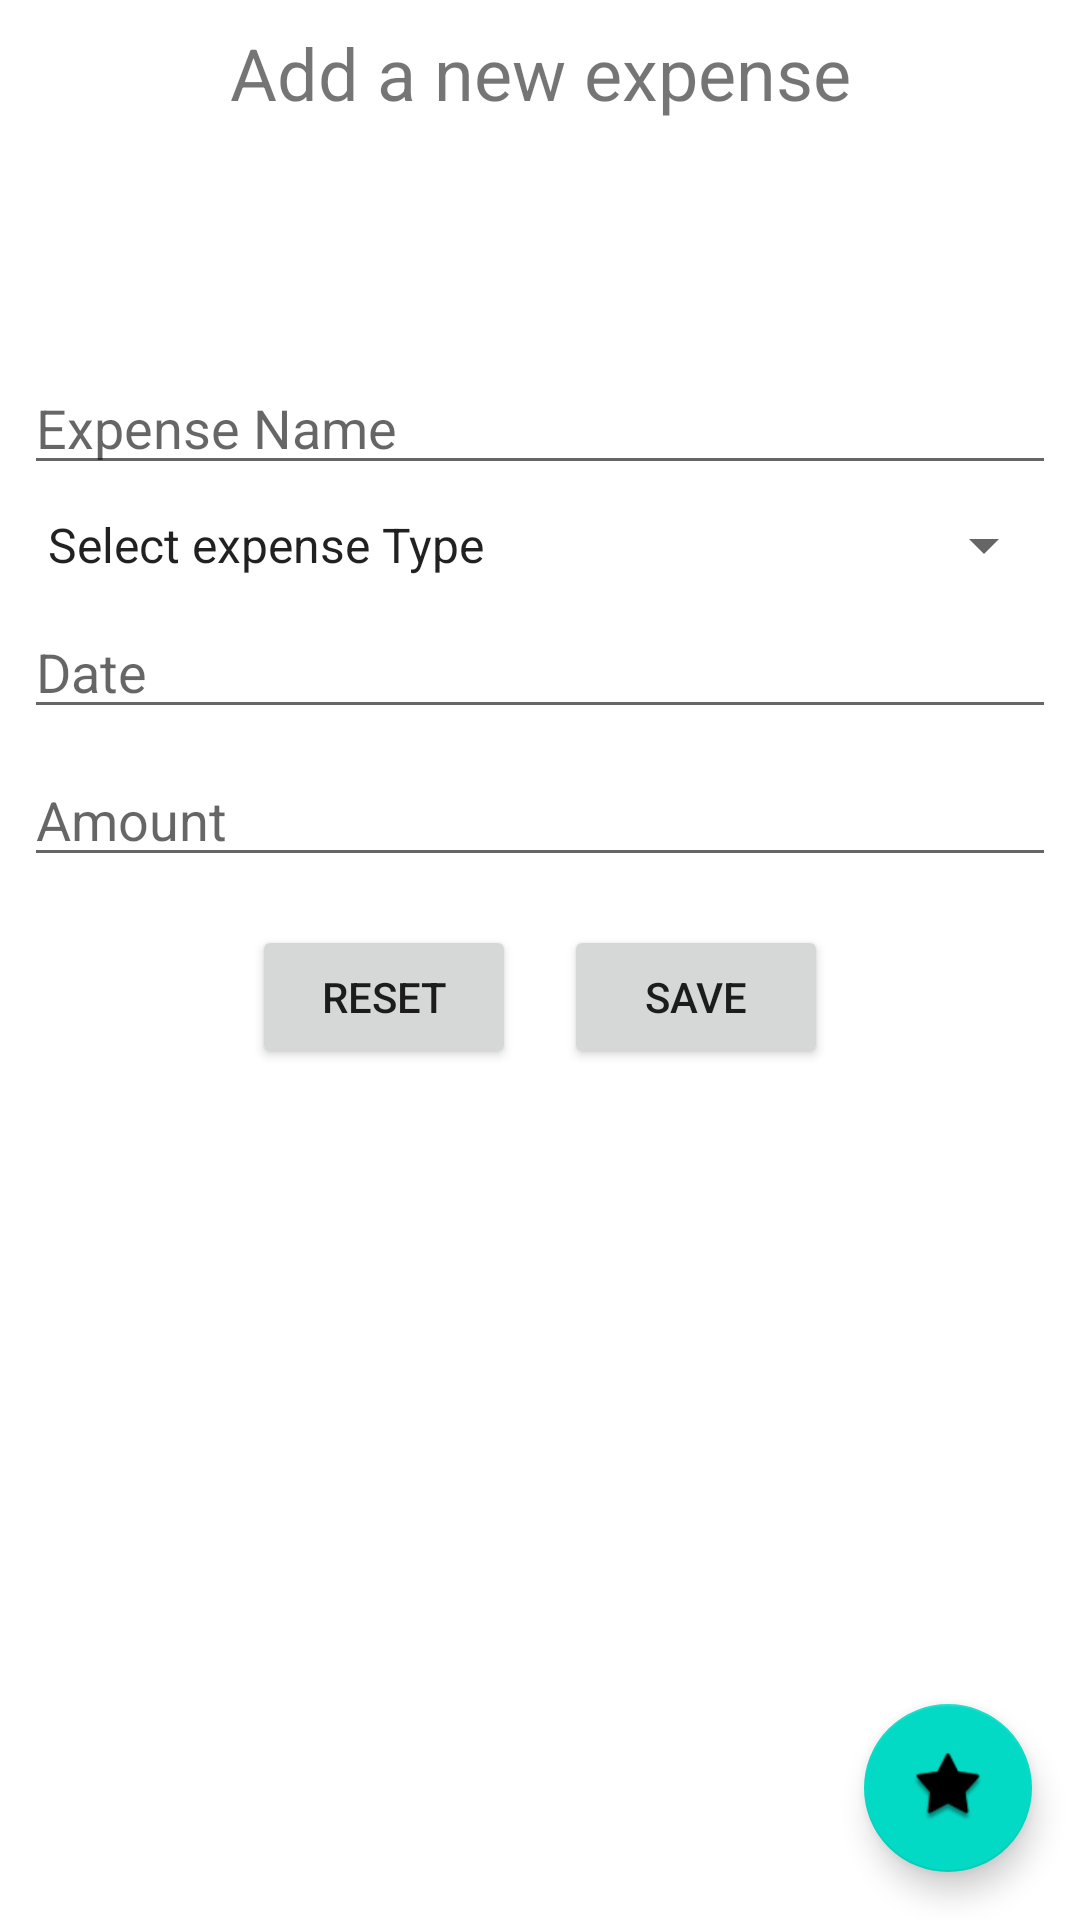

Named icons in this screenshot (1080*1920) and their centers, (x,y):
star on: (948,1788)
